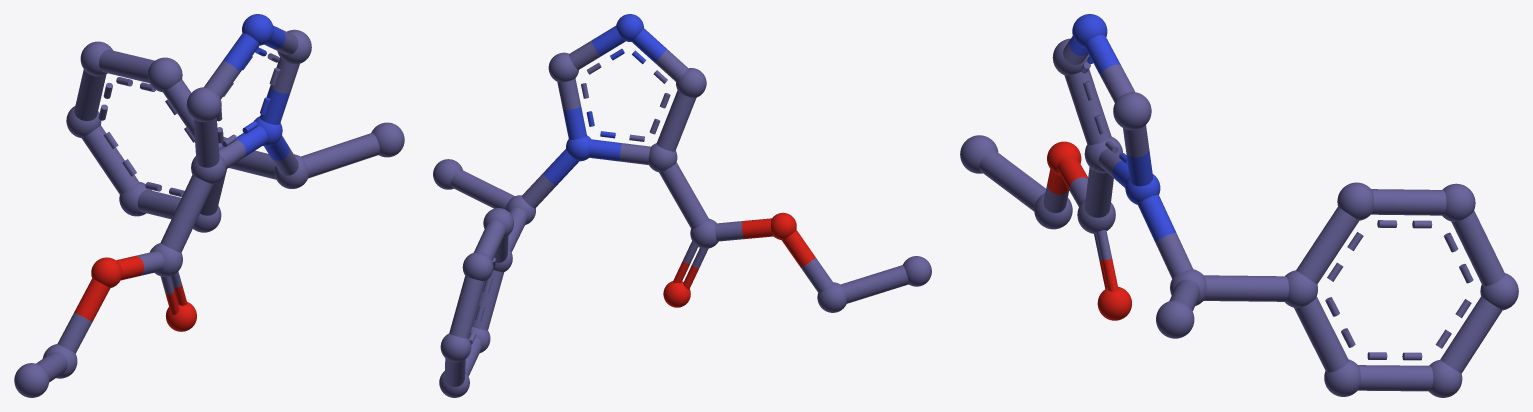
The model's file is etomidate-structure.glb.
The picture shows the model from 3 angles, left to right: view 1: azimuth 30°, elevation 25°; view 2: azimuth 150°, elevation 25°; view 3: azimuth 270°, elevation 25°; orthographic projection. The views are drawn at different scales.
Bounding box in the file's own units: 8 × 5.25 × 7.4.
